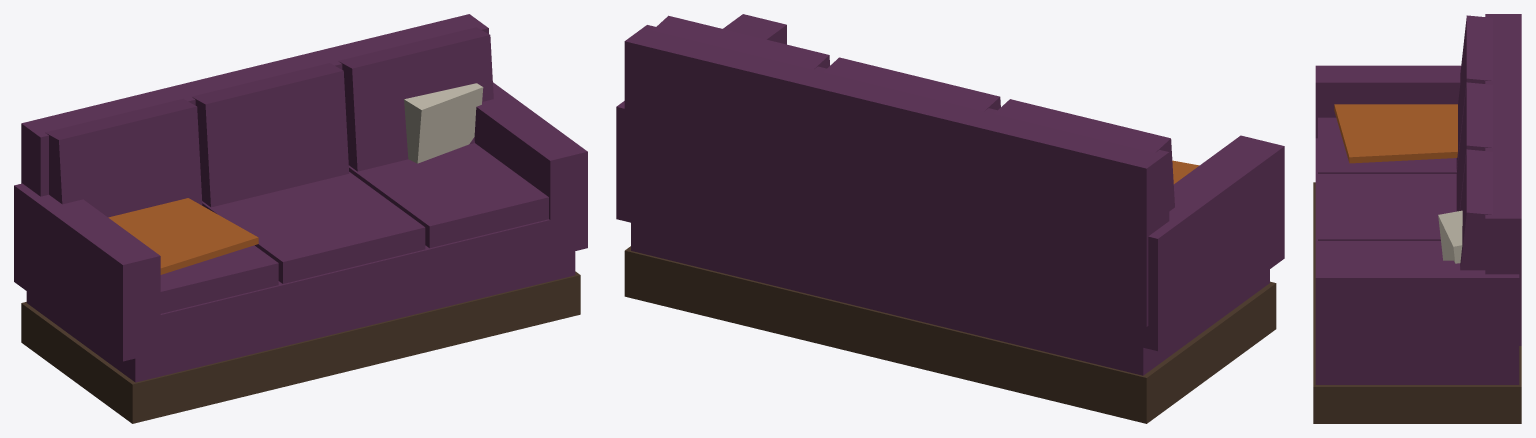
The model's file is PRP_Sofa_ND_v001.glb.
3 renders of one model, left to right at view 1: azimuth 30°, elevation 25°; view 2: azimuth 150°, elevation 25°; view 3: azimuth 270°, elevation 25°, orthographic. The views are drawn at different scales.
Parts seen in each view (by area): view 1: PRP_Sofa_ND_v001; view 2: PRP_Sofa_ND_v001; view 3: PRP_Sofa_ND_v001.
Part boxes in pixels (<box>): PRP_Sofa_ND_v001: <box>14,14,587,423</box>; PRP_Sofa_ND_v001: <box>616,14,1284,423</box>; PRP_Sofa_ND_v001: <box>1313,14,1521,423</box>.
Size of the model in its own units: 2.22 by 1.02 by 0.92.
